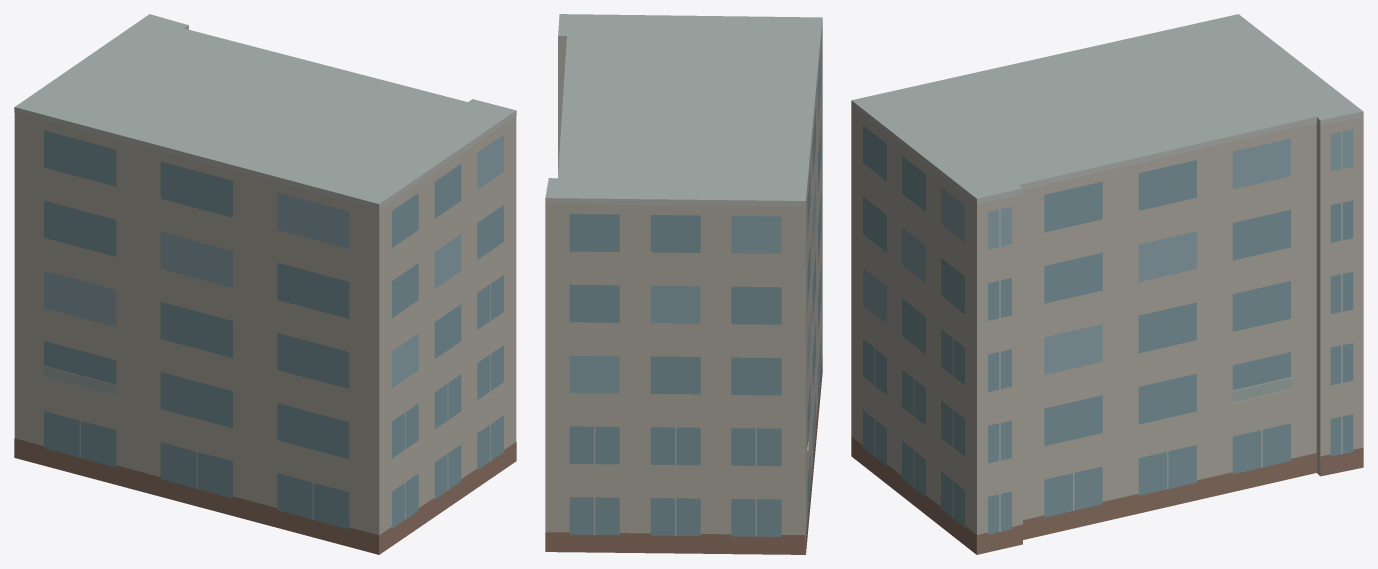
File: survey-upis-32955019.glb
3 renders of one model, left to right at view 1: azimuth 30°, elevation 25°; view 2: azimuth 150°, elevation 25°; view 3: azimuth 270°, elevation 25°, orthographic.
Visible parts, largest first — view 1: survey-upis-32955019.tmp; view 2: survey-upis-32955019.tmp; view 3: survey-upis-32955019.tmp.
Boxes of the visible parts, bbox=[...] form: survey-upis-32955019.tmp: bbox=[14, 14, 516, 554]; survey-upis-32955019.tmp: bbox=[545, 14, 822, 554]; survey-upis-32955019.tmp: bbox=[851, 14, 1363, 554].
Size of the model in its own units: 17.04 by 15.3 by 19.95.
